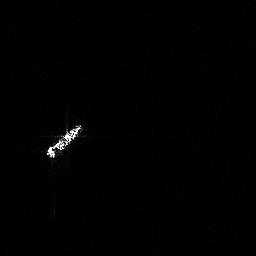ship: (43, 120, 87, 164)
